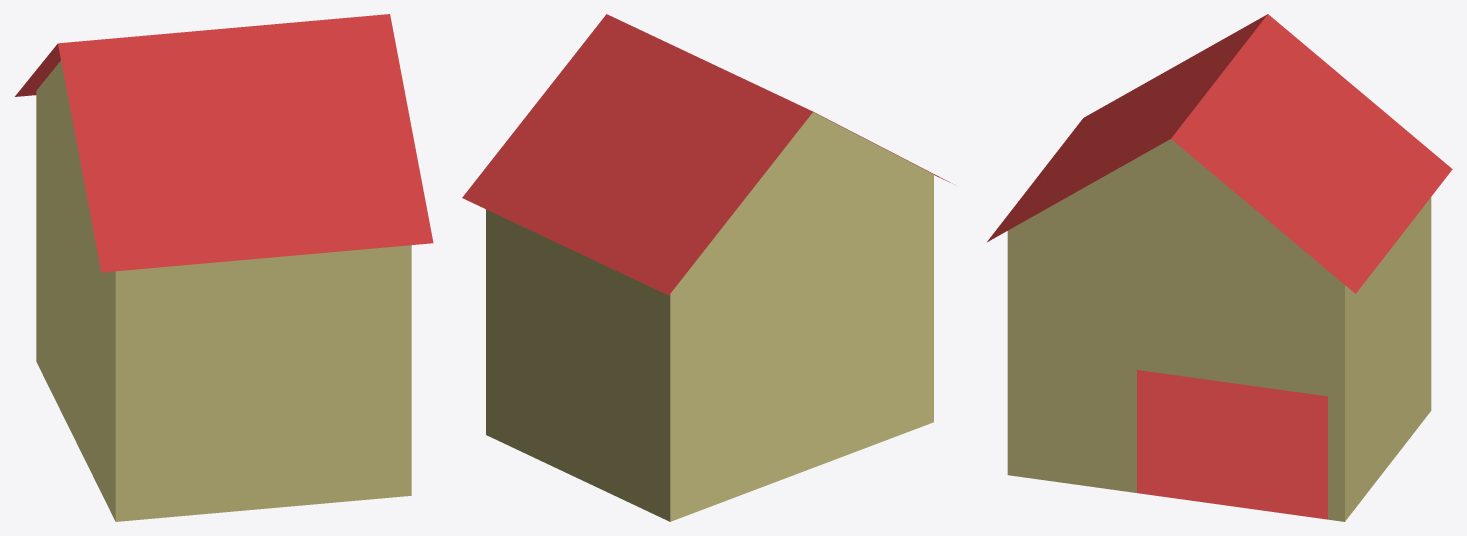
The picture shows the model from 3 angles, left to right: view 1: azimuth 30°, elevation 25°; view 2: azimuth 150°, elevation 25°; view 3: azimuth 270°, elevation 25°; orthographic projection. The views are drawn at different scales.
Size of the model in its own units: 12.27 by 13.73 by 11.91.
